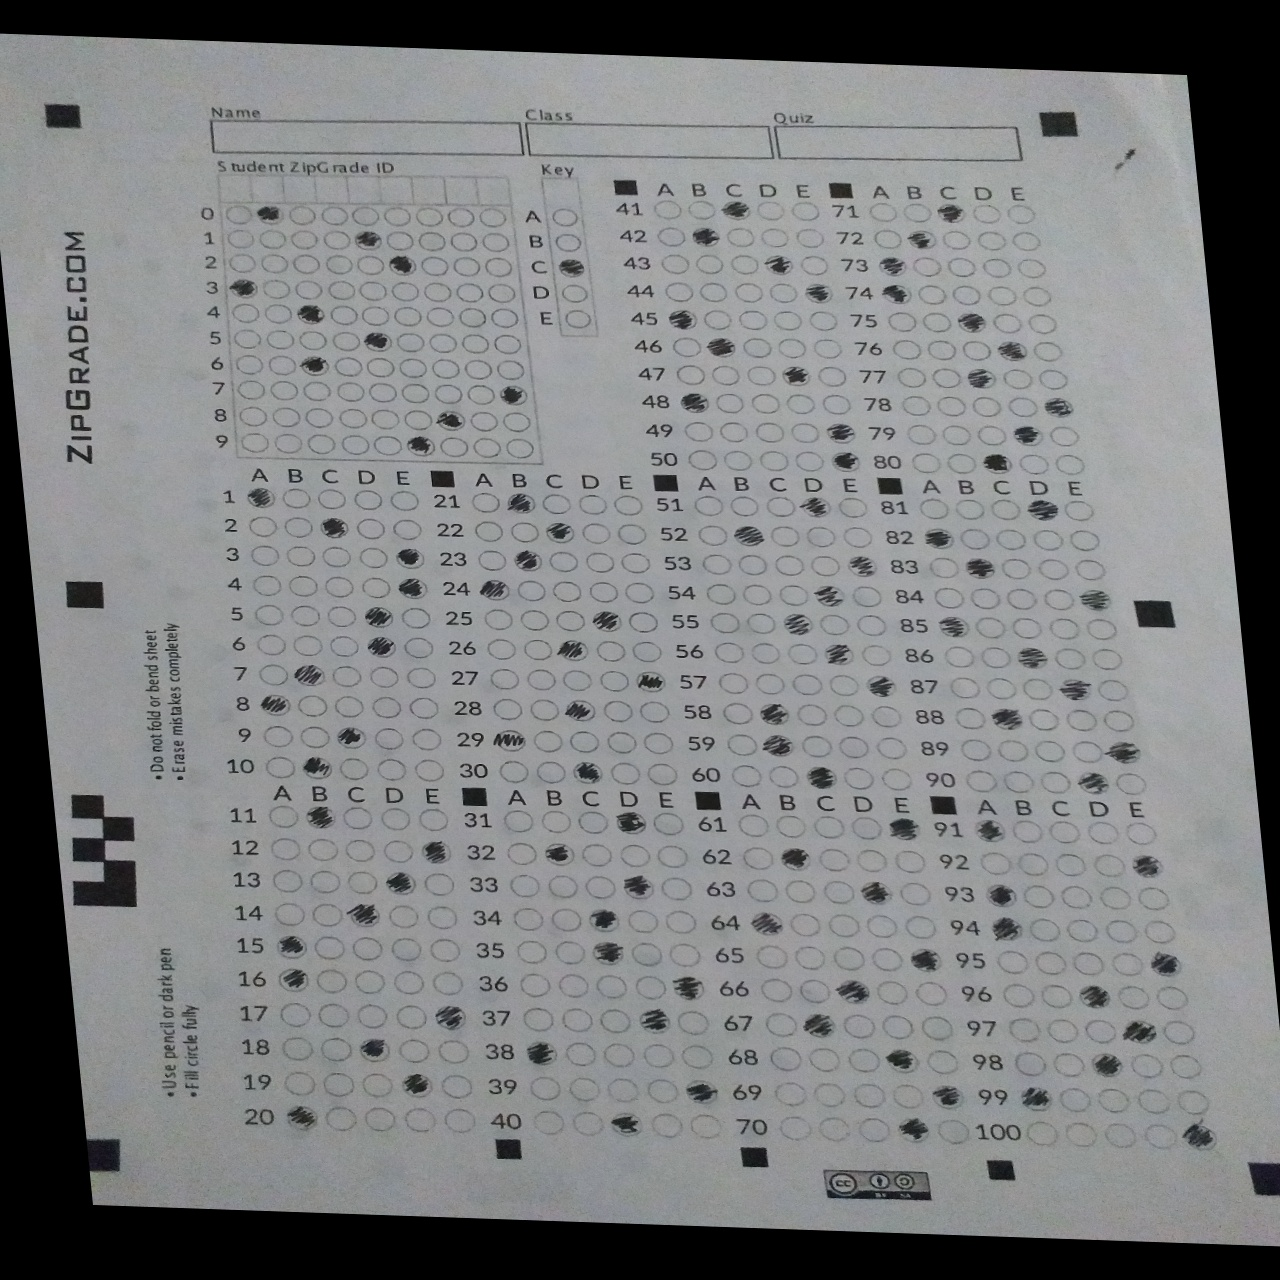not-c: (658, 878, 702, 905), (666, 942, 708, 971), (663, 908, 706, 937), (747, 942, 789, 971), (1034, 769, 1077, 796), (273, 999, 316, 1026), (617, 844, 660, 871), (765, 1080, 809, 1107), (849, 1083, 892, 1110), (829, 947, 872, 974), (920, 554, 961, 583), (498, 806, 539, 835), (1080, 1017, 1121, 1046), (924, 584, 966, 611), (945, 704, 987, 731), (953, 737, 995, 764), (1064, 738, 1107, 765), (306, 903, 348, 930), (300, 836, 342, 863), (275, 1069, 318, 1096), (277, 1034, 319, 1061), (265, 867, 307, 894), (263, 835, 305, 862), (264, 803, 306, 830), (673, 1009, 715, 1036), (676, 1043, 719, 1070), (688, 1114, 730, 1141), (645, 1112, 687, 1139), (641, 1078, 683, 1105), (638, 1042, 680, 1069), (629, 976, 672, 1003), (626, 942, 668, 969), (625, 910, 667, 937), (649, 810, 692, 837), (805, 1080, 847, 1107), (754, 976, 796, 1003), (738, 878, 781, 905), (733, 847, 775, 874), (735, 813, 777, 840), (872, 978, 914, 1005), (878, 1012, 920, 1039), (888, 1082, 931, 1109), (840, 1046, 883, 1073), (839, 1013, 881, 1040), (809, 813, 851, 840), (826, 914, 869, 941), (818, 878, 860, 905), (782, 878, 824, 905), (785, 912, 828, 939), (785, 946, 828, 973), (801, 1046, 843, 1073), (1126, 1049, 1166, 1077), (1108, 949, 1148, 978), (1162, 1017, 1201, 1046), (937, 644, 978, 670), (956, 768, 998, 795), (268, 901, 309, 928), (302, 869, 343, 896), (320, 1107, 361, 1133), (309, 935, 350, 962), (382, 903, 423, 930), (400, 1107, 441, 1133), (358, 1107, 399, 1133), (355, 1073, 396, 1099), (435, 1073, 476, 1099), (433, 1039, 474, 1065), (430, 971, 471, 998), (416, 806, 457, 833), (581, 876, 622, 903), (542, 876, 583, 903), (506, 905, 547, 932), (505, 874, 546, 901), (658, 844, 699, 871), (760, 1044, 801, 1071), (760, 1012, 801, 1039), (813, 846, 855, 873), (772, 815, 813, 842), (794, 978, 835, 1005), (1058, 707, 1101, 733), (315, 1036, 358, 1062), (1114, 983, 1152, 1012), (441, 1108, 481, 1135), (1131, 1088, 1171, 1115), (1094, 1088, 1133, 1115), (1074, 952, 1114, 979), (1165, 1053, 1205, 1080), (1095, 884, 1135, 911), (1121, 822, 1160, 849), (1135, 886, 1175, 913), (1139, 919, 1179, 946), (1153, 985, 1193, 1012), (910, 496, 951, 522), (940, 673, 981, 699), (998, 768, 1039, 794), (316, 1001, 358, 1027), (311, 967, 352, 993), (389, 937, 430, 962), (393, 1039, 434, 1064), (350, 1003, 392, 1029), (350, 969, 392, 995), (340, 871, 381, 897), (339, 837, 380, 863), (517, 1006, 558, 1032), (524, 1076, 565, 1102), (529, 1112, 570, 1138), (551, 972, 592, 998), (592, 973, 633, 999), (592, 1008, 633, 1034), (566, 1110, 607, 1136), (564, 1075, 605, 1101), (561, 1042, 602, 1068), (557, 1008, 598, 1034), (545, 906, 586, 932), (502, 840, 543, 866), (576, 809, 617, 835), (1057, 885, 1096, 912), (1173, 1087, 1212, 1114), (1103, 918, 1142, 945), (1089, 855, 1128, 881), (1083, 821, 1122, 847), (1024, 706, 1064, 731), (1032, 738, 1071, 764), (975, 645, 1015, 670), (798, 733, 838, 758), (372, 726, 411, 751), (406, 666, 445, 692), (350, 515, 390, 540), (352, 489, 392, 515), (325, 602, 365, 628), (258, 754, 298, 779), (558, 666, 598, 692), (617, 522, 656, 547), (579, 843, 619, 869), (319, 1073, 359, 1098), (375, 805, 415, 831), (379, 839, 418, 865), (390, 971, 430, 996), (388, 1005, 428, 1030), (350, 937, 390, 962), (338, 804, 377, 830), (509, 939, 549, 965), (515, 972, 554, 998), (425, 937, 465, 962), (418, 871, 458, 897), (599, 1043, 639, 1069), (604, 1078, 644, 1104), (549, 940, 588, 966), (537, 809, 577, 835), (1034, 949, 1071, 976), (954, 527, 995, 552), (990, 527, 1032, 552), (365, 665, 406, 689), (515, 636, 556, 661), (549, 579, 590, 604), (1000, 556, 1039, 581), (727, 495, 765, 520), (326, 634, 365, 660), (274, 488, 313, 513), (244, 602, 282, 628), (608, 493, 647, 519), (641, 697, 680, 723), (1142, 1124, 1180, 1150), (1063, 918, 1102, 944), (838, 527, 878, 552), (1010, 615, 1050, 640), (1051, 644, 1091, 668), (981, 675, 1021, 700), (781, 642, 821, 667), (723, 763, 763, 788), (719, 730, 758, 755), (713, 670, 753, 695), (709, 640, 749, 665), (695, 552, 735, 577), (692, 522, 731, 546), (805, 554, 845, 579), (859, 644, 899, 668), (840, 767, 880, 791), (373, 757, 413, 782), (354, 544, 394, 568), (392, 489, 431, 513), (321, 576, 361, 600), (293, 693, 333, 717), (526, 728, 566, 753), (493, 760, 533, 784), (576, 493, 615, 518), (626, 610, 666, 634), (597, 670, 636, 695), (602, 728, 642, 753), (550, 610, 590, 634), (856, 847, 892, 874), (897, 881, 933, 908), (1058, 1087, 1095, 1114), (1044, 1017, 1081, 1044), (816, 1117, 853, 1143), (925, 1050, 962, 1076), (919, 1016, 956, 1042), (1009, 819, 1047, 845), (978, 850, 1015, 876), (1046, 821, 1083, 846), (1039, 983, 1076, 1009), (1026, 917, 1063, 942), (964, 586, 1005, 610), (794, 704, 835, 728), (629, 641, 670, 665), (850, 585, 888, 610), (1020, 678, 1058, 702), (993, 738, 1032, 763), (790, 672, 829, 696), (775, 583, 813, 607), (772, 552, 811, 577), (763, 495, 802, 519), (737, 584, 776, 608), (742, 612, 781, 636), (749, 670, 788, 695), (714, 703, 753, 728), (687, 492, 726, 517), (804, 525, 843, 550), (826, 673, 865, 697), (831, 703, 870, 728), (874, 735, 913, 760), (880, 767, 919, 791), (836, 735, 874, 760), (360, 576, 399, 600), (402, 634, 441, 659), (278, 516, 316, 540), (297, 727, 335, 751), (240, 515, 279, 539), (531, 760, 570, 784), (524, 667, 563, 692), (483, 667, 522, 692), (478, 638, 517, 662), (464, 490, 503, 515), (586, 583, 625, 607), (647, 764, 686, 789), (621, 553, 660, 578), (607, 762, 646, 787), (600, 697, 639, 722), (544, 551, 583, 576), (869, 947, 907, 972), (888, 850, 925, 876), (775, 1115, 811, 1141), (855, 1116, 891, 1142), (1102, 1122, 1138, 1148), (1063, 1122, 1099, 1148), (1013, 1051, 1049, 1077), (1001, 983, 1037, 1009), (994, 951, 1030, 976), (1051, 852, 1088, 878), (1019, 883, 1055, 908), (852, 614, 892, 638), (1046, 617, 1085, 640), (972, 614, 1012, 638), (1002, 586, 1042, 610), (815, 613, 855, 636), (767, 525, 806, 549), (734, 553, 774, 577), (764, 763, 804, 787), (867, 704, 907, 728), (411, 758, 451, 782), (408, 729, 448, 753), (407, 696, 447, 720), (332, 696, 372, 720), (284, 576, 324, 599), (258, 726, 298, 749), (248, 663, 288, 687), (247, 545, 287, 568), (513, 607, 553, 631), (486, 695, 526, 719), (475, 610, 515, 633), (467, 547, 506, 571), (505, 520, 545, 544), (622, 580, 662, 604), (638, 730, 678, 754), (864, 914, 901, 939), (1014, 852, 1051, 877), (425, 903, 459, 930), (832, 497, 871, 520), (745, 641, 784, 665), (702, 610, 741, 633), (702, 580, 741, 604), (395, 606, 434, 629), (390, 519, 429, 543), (335, 756, 374, 779), (328, 663, 367, 687), (320, 545, 359, 568), (314, 486, 353, 510), (285, 545, 324, 568), (287, 606, 326, 629), (290, 634, 328, 658), (251, 634, 290, 658), (246, 574, 285, 598), (369, 696, 408, 720), (566, 730, 605, 754), (524, 696, 563, 720), (513, 579, 552, 602), (540, 493, 579, 517), (470, 520, 509, 544), (592, 640, 631, 663), (584, 552, 622, 576), (579, 520, 618, 544), (1023, 1121, 1058, 1146), (1051, 1051, 1087, 1077), (849, 817, 885, 842), (912, 980, 948, 1005), (1007, 1016, 1043, 1041), (903, 915, 938, 940), (935, 1118, 971, 1143), (382, 229, 416, 253), (1010, 229, 1044, 253), (316, 204, 352, 227), (284, 204, 319, 227), (370, 433, 406, 456), (751, 421, 787, 444), (728, 252, 763, 275), (236, 379, 270, 402), (256, 252, 290, 275), (324, 279, 358, 302), (302, 407, 336, 430), (392, 307, 425, 331), (493, 358, 527, 381), (436, 436, 470, 459), (399, 382, 433, 406), (367, 379, 401, 402), (812, 338, 846, 361), (819, 393, 853, 416), (722, 448, 756, 471), (915, 285, 949, 308), (946, 257, 980, 280), (1006, 395, 1040, 418), (1021, 285, 1055, 308), (1116, 772, 1150, 796), (1088, 647, 1122, 670), (380, 205, 415, 227), (348, 205, 383, 227), (417, 256, 452, 278), (459, 332, 495, 354), (428, 360, 463, 382), (400, 410, 435, 433), (334, 379, 369, 401), (782, 392, 817, 414), (696, 281, 731, 304), (717, 421, 753, 443), (685, 450, 720, 472), (661, 280, 696, 302), (550, 232, 585, 254), (927, 367, 962, 389), (942, 452, 978, 475), (898, 395, 933, 417), (976, 231, 1012, 253), (985, 284, 1020, 306), (1036, 559, 1071, 581), (1071, 559, 1107, 581), (411, 205, 445, 227), (444, 206, 478, 229), (222, 203, 256, 225), (483, 257, 517, 279), (256, 229, 290, 251), (467, 410, 501, 433), (222, 229, 256, 251), (265, 328, 299, 350), (236, 406, 270, 428), (231, 355, 265, 377), (261, 278, 295, 300), (320, 253, 354, 275), (286, 229, 320, 251), (230, 327, 264, 349), (222, 252, 256, 274), (293, 279, 327, 301), (301, 380, 335, 402), (271, 434, 305, 456), (268, 406, 302, 428), (267, 381, 301, 403), (264, 355, 298, 377), (263, 328, 297, 350), (417, 232, 451, 254), (327, 331, 361, 353), (359, 305, 393, 327), (328, 304, 362, 326), (465, 384, 499, 407), (462, 359, 496, 381), (488, 333, 522, 355), (425, 332, 459, 354), (394, 332, 428, 354), (367, 409, 401, 431), (338, 433, 372, 455), (334, 407, 368, 429), (331, 355, 365, 377), (457, 307, 491, 329), (486, 307, 520, 329), (486, 282, 520, 305), (481, 233, 515, 256), (445, 232, 479, 254), (423, 308, 457, 331), (504, 437, 538, 459), (469, 436, 503, 458), (952, 498, 986, 520), (771, 311, 805, 333), (806, 309, 840, 332), (788, 422, 822, 444), (815, 366, 849, 388), (794, 451, 828, 474), (755, 448, 789, 470), (749, 393, 783, 415), (744, 365, 778, 387), (737, 309, 771, 332), (731, 282, 765, 305), (724, 227, 758, 250), (686, 199, 720, 222), (702, 309, 736, 332), (709, 365, 743, 387), (713, 392, 747, 414), (681, 420, 715, 442), (669, 335, 703, 358), (656, 253, 690, 275), (654, 225, 688, 247), (652, 199, 686, 222), (547, 206, 581, 229), (559, 309, 593, 332), (934, 395, 968, 417), (922, 340, 956, 362), (917, 313, 951, 335), (911, 256, 945, 278), (908, 451, 942, 474), (896, 367, 930, 389), (891, 338, 925, 360), (886, 312, 920, 334), (869, 200, 903, 223), (790, 200, 824, 223), (981, 258, 1015, 280), (949, 285, 983, 307), (990, 312, 1024, 334), (958, 339, 992, 361), (1003, 368, 1037, 390), (973, 423, 1007, 445), (969, 394, 1003, 416), (1053, 452, 1087, 475), (1049, 424, 1083, 447), (1037, 368, 1071, 390), (1032, 342, 1065, 365), (1026, 312, 1060, 334), (1015, 256, 1049, 278), (1003, 203, 1037, 225), (1063, 501, 1097, 523), (971, 203, 1005, 225), (899, 202, 933, 224), (1088, 617, 1122, 639), (1032, 529, 1065, 551), (1098, 681, 1132, 703), (1043, 588, 1077, 611), (1065, 530, 1099, 552), (451, 256, 485, 278), (738, 338, 774, 359), (987, 499, 1022, 520), (941, 229, 976, 250), (354, 254, 387, 277), (476, 207, 510, 229), (238, 431, 272, 452), (261, 302, 295, 324), (318, 229, 352, 250), (288, 254, 322, 275), (229, 302, 263, 324), (295, 331, 329, 352), (306, 433, 340, 454), (421, 282, 455, 304), (388, 282, 422, 304), (358, 281, 392, 302), (433, 384, 467, 406), (396, 358, 430, 379), (362, 356, 396, 377), (452, 282, 486, 304), (502, 411, 536, 433), (798, 256, 832, 277), (772, 338, 806, 359), (689, 254, 723, 275), (673, 365, 707, 386), (554, 282, 588, 304), (939, 425, 973, 447), (903, 424, 937, 445), (869, 229, 903, 250), (756, 200, 790, 222), (757, 227, 791, 248), (794, 229, 828, 250), (1015, 452, 1049, 474), (1101, 712, 1135, 733), (767, 282, 799, 304)
taken-c: (1142, 949, 1185, 978), (1119, 1017, 1162, 1046), (606, 808, 649, 835), (584, 938, 627, 965), (428, 1003, 471, 1030), (271, 932, 314, 959), (774, 845, 817, 872), (298, 802, 341, 829), (981, 881, 1024, 908), (1179, 1123, 1223, 1150), (852, 879, 896, 906), (797, 1012, 840, 1039), (619, 876, 661, 903), (632, 1006, 674, 1033), (519, 1039, 561, 1065), (667, 975, 709, 1002), (281, 1103, 324, 1130), (394, 1071, 436, 1098), (352, 1036, 394, 1063), (343, 903, 386, 930), (271, 966, 313, 993), (377, 870, 420, 897), (881, 816, 924, 843), (415, 838, 457, 865), (538, 839, 580, 866), (985, 915, 1027, 942), (1075, 983, 1117, 1010), (1015, 1084, 1057, 1111), (903, 947, 945, 974), (880, 1047, 922, 1074), (927, 1083, 969, 1110), (892, 1116, 934, 1143), (678, 1078, 720, 1105), (605, 1111, 647, 1138), (288, 661, 331, 688), (1054, 676, 1096, 703), (987, 706, 1029, 733), (1074, 769, 1116, 796), (256, 692, 297, 719), (488, 726, 529, 753), (745, 910, 787, 937), (581, 906, 622, 933), (971, 818, 1012, 845), (1085, 1051, 1126, 1078), (833, 978, 874, 1005), (753, 701, 794, 728), (387, 544, 428, 571), (553, 636, 594, 663), (1012, 644, 1053, 670), (567, 758, 610, 784), (331, 724, 373, 750), (756, 731, 798, 757), (803, 765, 845, 791), (586, 610, 628, 635), (817, 642, 859, 668), (859, 672, 901, 697), (297, 754, 338, 779), (558, 695, 599, 721), (393, 576, 434, 601), (1074, 587, 1115, 613), (933, 615, 974, 641), (1102, 738, 1143, 764), (1126, 851, 1167, 877), (961, 366, 1001, 392), (223, 277, 263, 302), (631, 669, 669, 695), (314, 515, 353, 540), (975, 449, 1015, 474), (1023, 497, 1063, 522), (918, 526, 958, 551), (960, 556, 1000, 580), (809, 584, 849, 608), (776, 611, 816, 635), (951, 309, 990, 334), (476, 577, 513, 602), (501, 492, 542, 516), (685, 225, 726, 248), (796, 495, 835, 519), (729, 524, 768, 549), (238, 485, 277, 510), (993, 339, 1032, 363), (797, 280, 836, 305), (930, 200, 968, 225), (900, 229, 939, 253), (506, 549, 546, 572), (842, 554, 881, 578), (874, 282, 914, 306), (826, 448, 862, 474), (540, 520, 579, 544), (872, 253, 911, 277), (1039, 395, 1077, 418), (1007, 424, 1046, 448), (758, 252, 797, 275), (360, 605, 396, 629), (701, 335, 738, 359), (295, 353, 331, 377), (822, 423, 857, 448), (676, 392, 712, 416), (348, 229, 387, 251), (362, 634, 399, 658), (662, 308, 700, 331), (360, 331, 395, 354), (717, 198, 753, 222), (553, 258, 590, 280), (433, 409, 467, 433), (293, 302, 327, 326), (779, 365, 815, 387), (382, 254, 418, 275), (403, 435, 437, 457), (493, 384, 529, 406), (252, 203, 284, 223)
